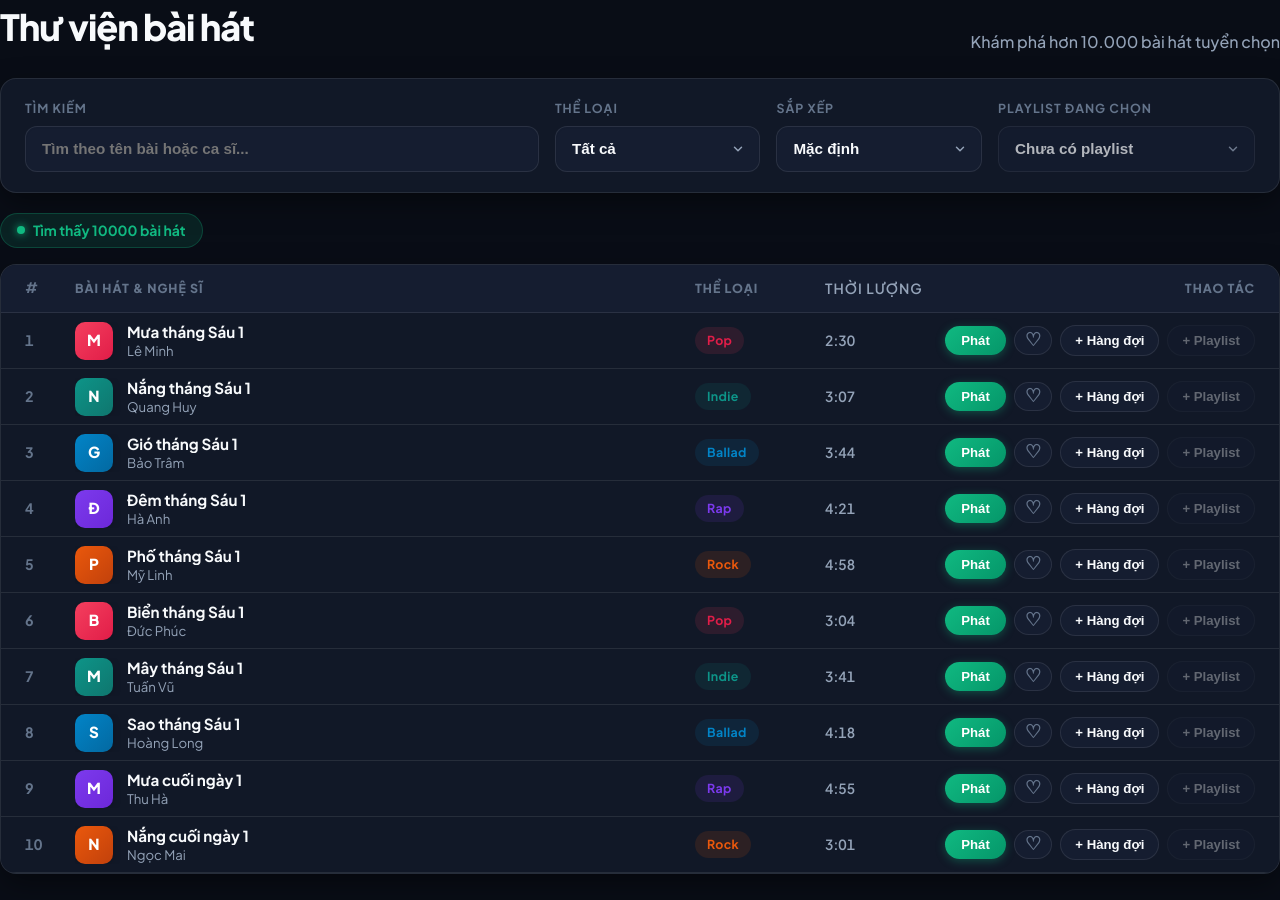
LibraryPage › tìm kiếm từ khóa không có kết quả hiển thị thông báo
This screenshot has width=1280, height=900.
Type "xyznotfound" into the field labelled "Tìm kiếm" at (282, 149), box [25,126,539,172]
Wait 300 ms
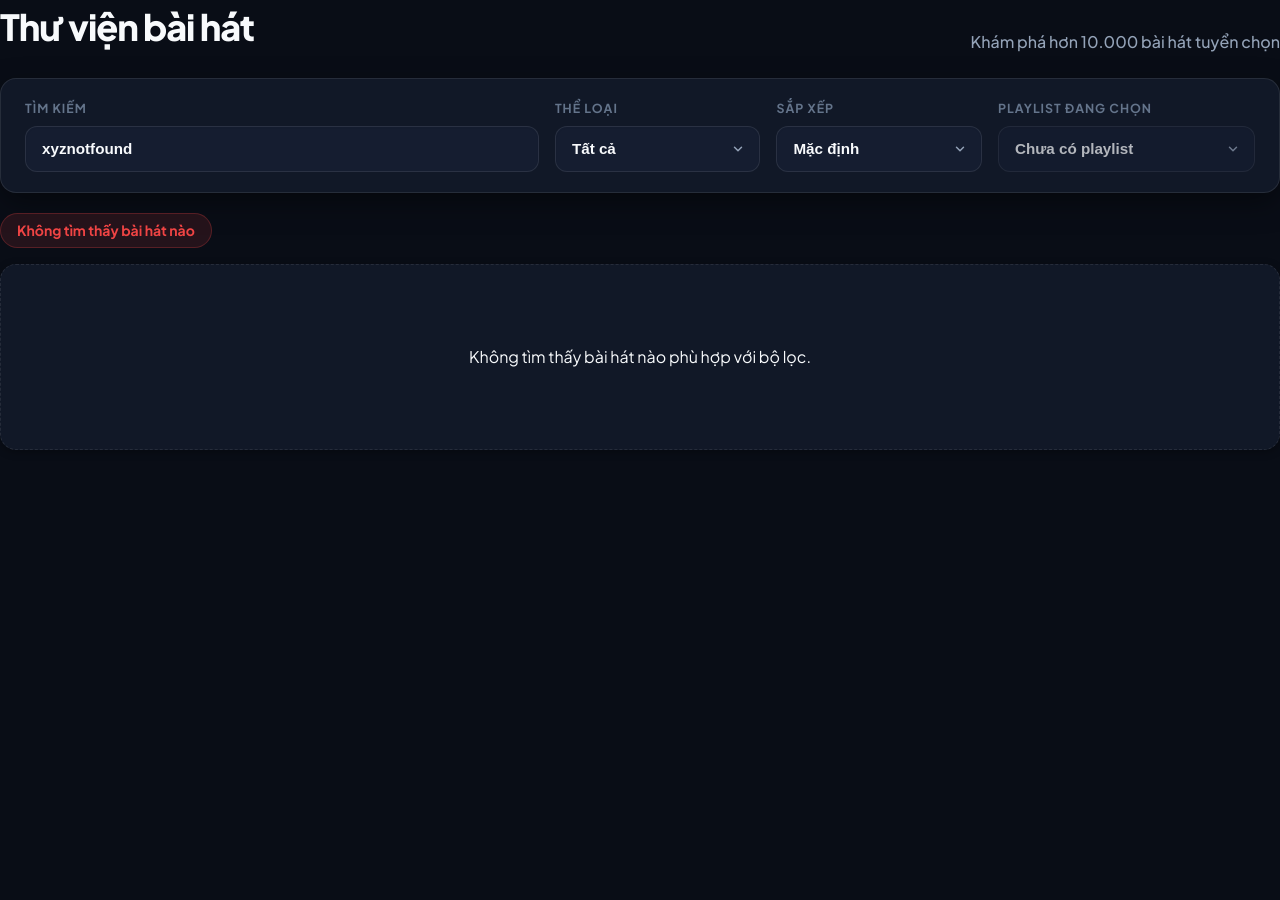
Check: the text "Không tìm thấy bài hát nào" is shown, box [0,213,212,248]
